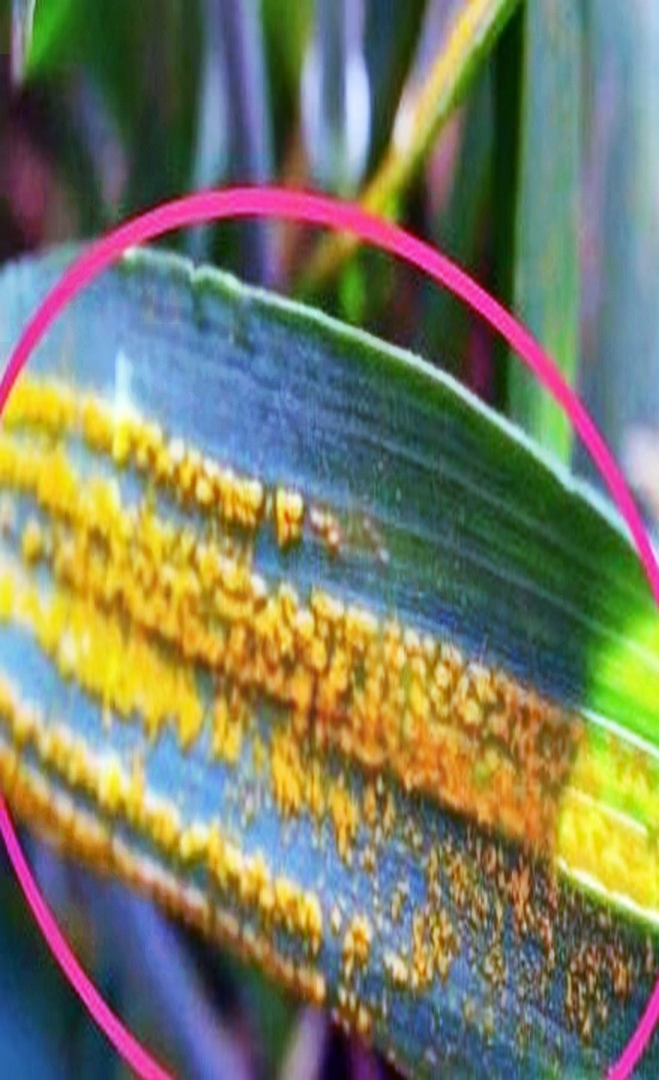Leaf Rust: (68, 458, 585, 1025)
